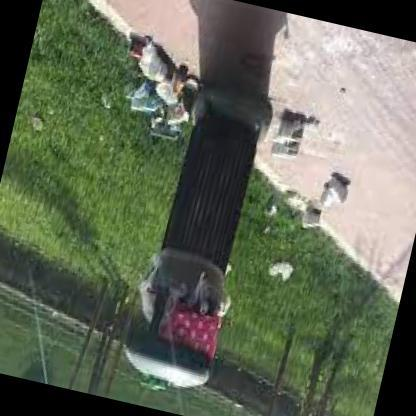Garbage: (106, 31, 210, 146), (267, 100, 319, 168), (315, 154, 364, 220), (266, 104, 314, 170), (262, 248, 301, 292)
